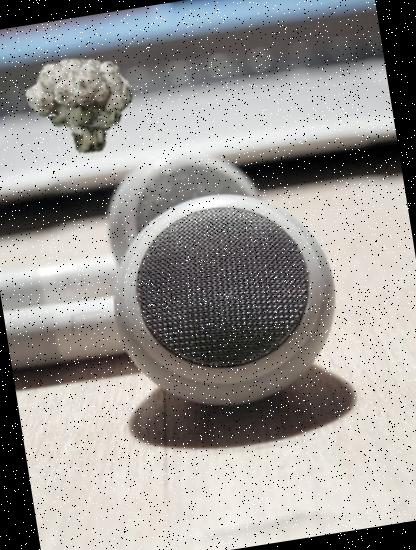Cauliflower: (18, 42, 140, 164)
